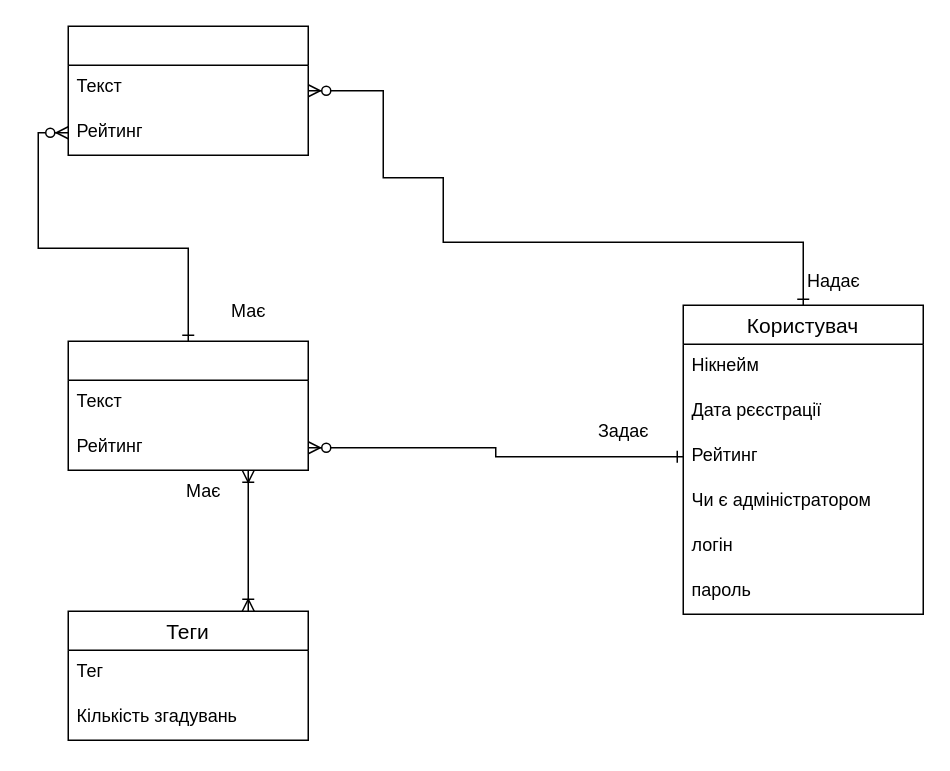
This 950x771 diagram has some shape labels left out. Each missing label, with the box of its shape:
Відповідь: (67, 25, 308, 155)
Питання: (67, 340, 308, 470)
